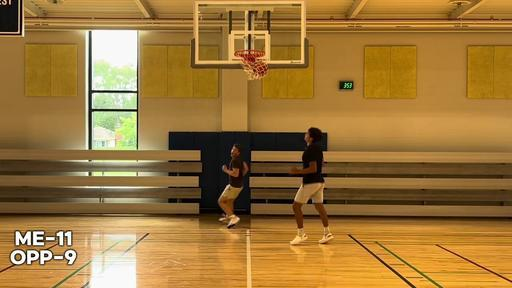ball: (253, 62, 267, 75)
human: (288, 128, 334, 244), (218, 142, 248, 228)
rim: (234, 49, 268, 80)
